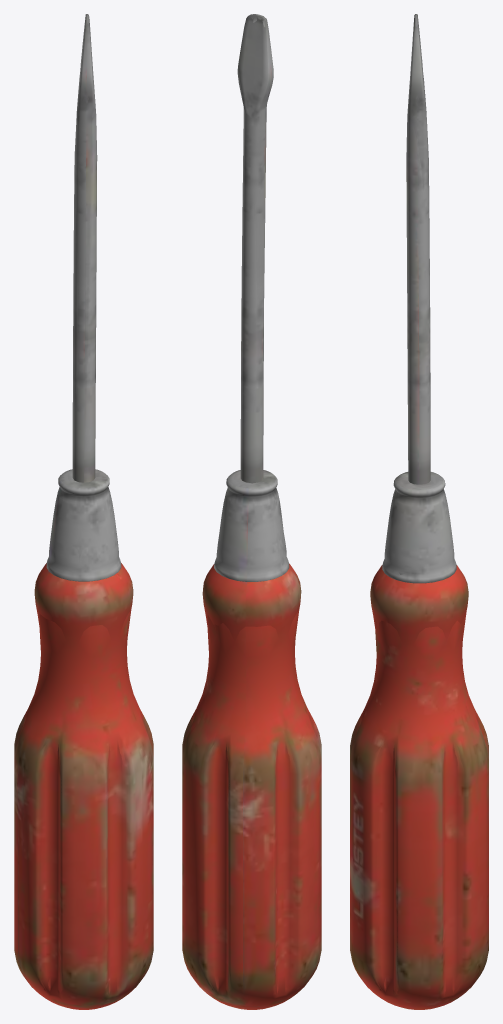
File: ph-screwdriver.glb
The picture shows the model from 3 angles, left to right: view 1: azimuth 90°, elevation 25°; view 2: azimuth 150°, elevation 25°; view 3: azimuth 270°, elevation 25°; orthographic projection.
Parts seen in each view (by area): view 1: screwdriver (×2); view 2: screwdriver (×2); view 3: screwdriver (×2).
Part boxes in pixels (x1,y1,x2,y2): screwdriver (×2): [14, 14, 153, 1009]; screwdriver (×2): [182, 14, 321, 1009]; screwdriver (×2): [350, 14, 488, 1009].
Bounding box in the file's own units: 0.0285 × 0.22 × 0.0281.
Materials: 1 (1 with a texture image).
